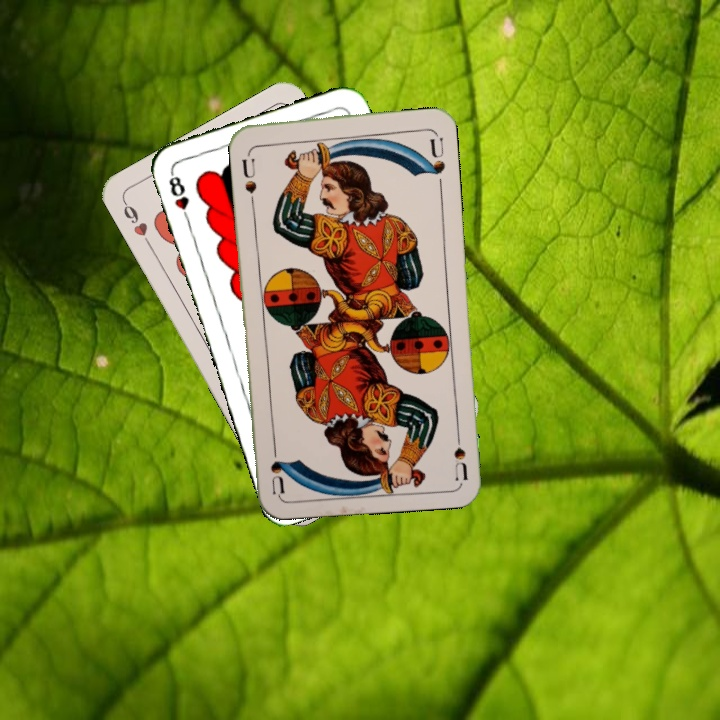H8: (165, 168, 193, 226)
H9: (119, 197, 155, 250)
SU: (450, 422, 470, 481), (238, 155, 260, 205)
